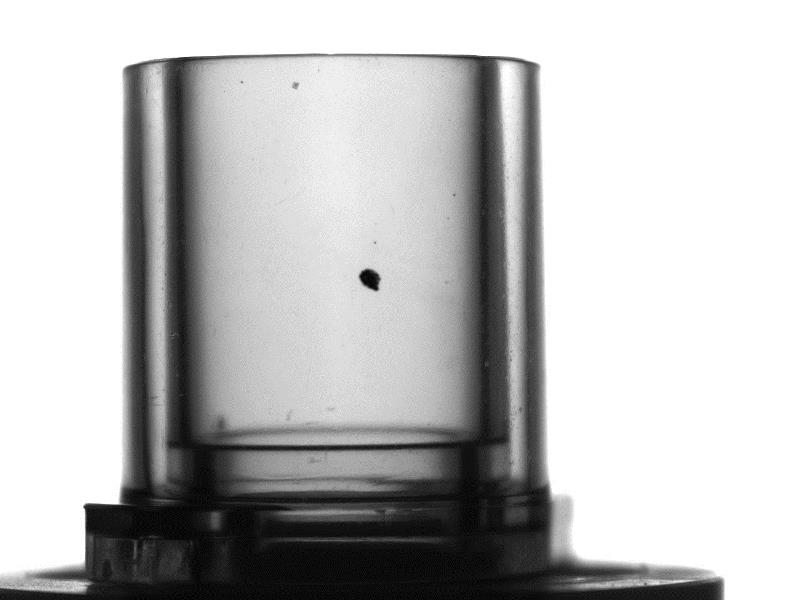blackdot: (356, 267, 386, 291)
